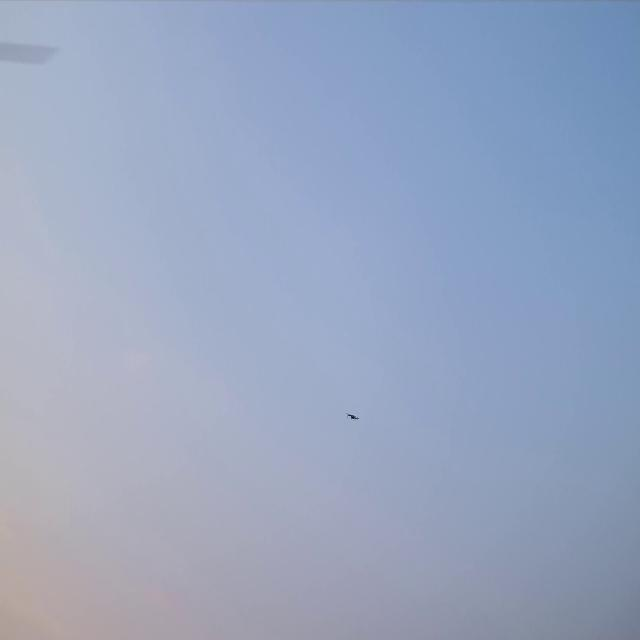UAV: (345, 412, 360, 422)
